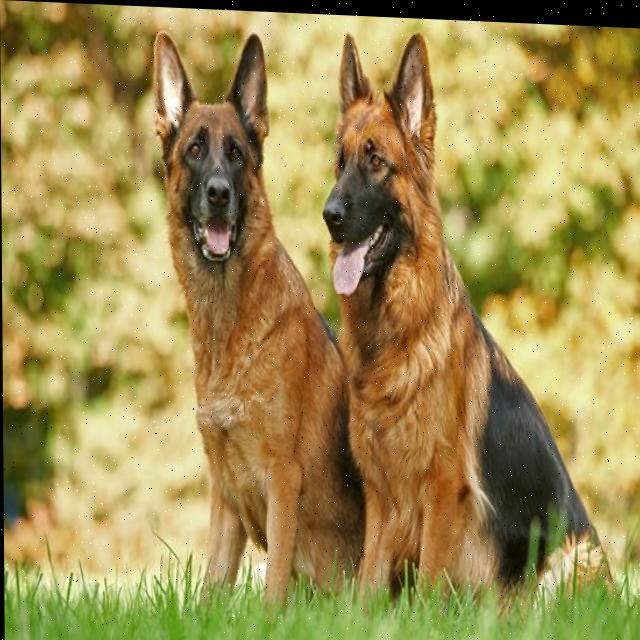GERMAN_SHEPHERD: (310, 23, 617, 608), (142, 24, 360, 614)
